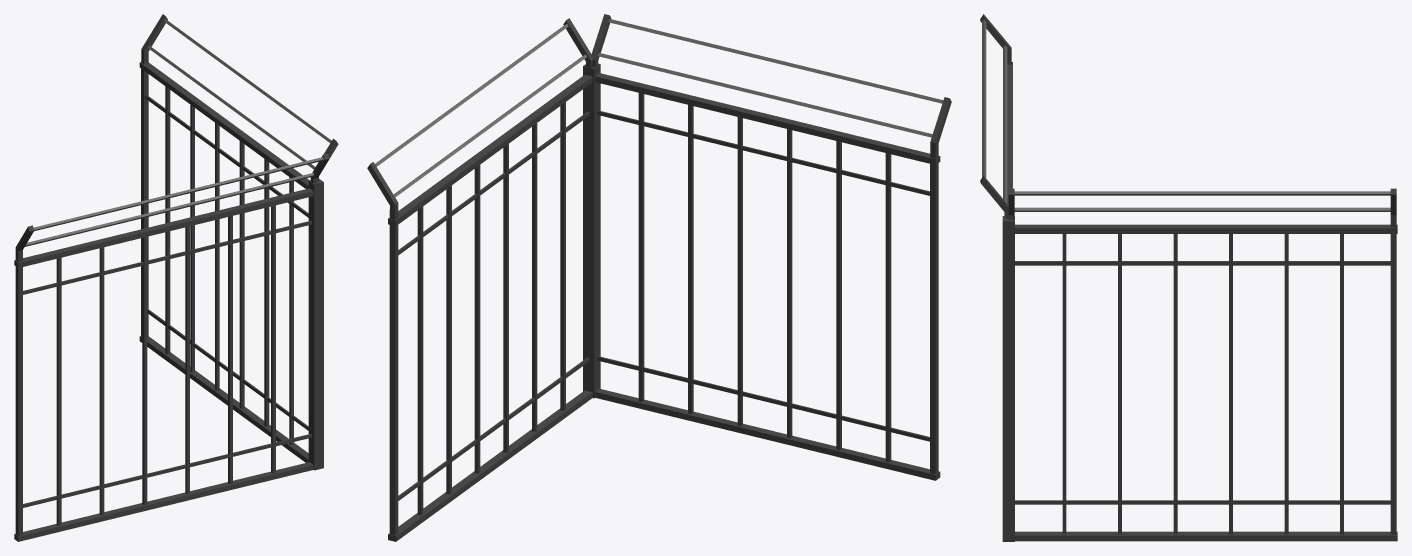
File: SM_IndustrialProps_Fence_02.fbx
The picture shows the model from 3 angles, left to right: view 1: azimuth 30°, elevation 25°; view 2: azimuth 150°, elevation 25°; view 3: azimuth 270°, elevation 25°; orthographic projection. The views are drawn at different scales.
Visible parts, largest first — view 1: SM_IndustrialProps_Fence_02; view 2: SM_IndustrialProps_Fence_02; view 3: SM_IndustrialProps_Fence_02.
Boxes of the visible parts, bbox=[...] form: SM_IndustrialProps_Fence_02: bbox=[14, 14, 338, 541]; SM_IndustrialProps_Fence_02: bbox=[367, 14, 951, 541]; SM_IndustrialProps_Fence_02: bbox=[980, 14, 1397, 541].
Bounding box in the file's own units: 2.68 × 2.56 × 2.68.
